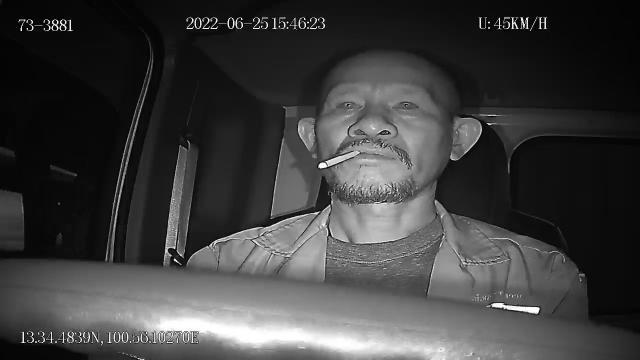SafeDriving: (388, 92, 426, 118), (331, 92, 367, 119)
Smoking: (318, 150, 360, 168)
